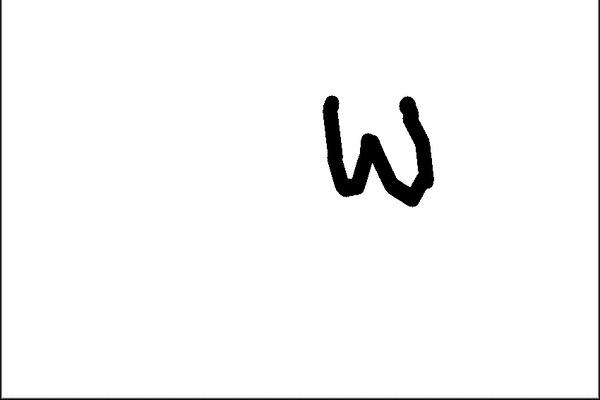w: (290, 72, 460, 227)
